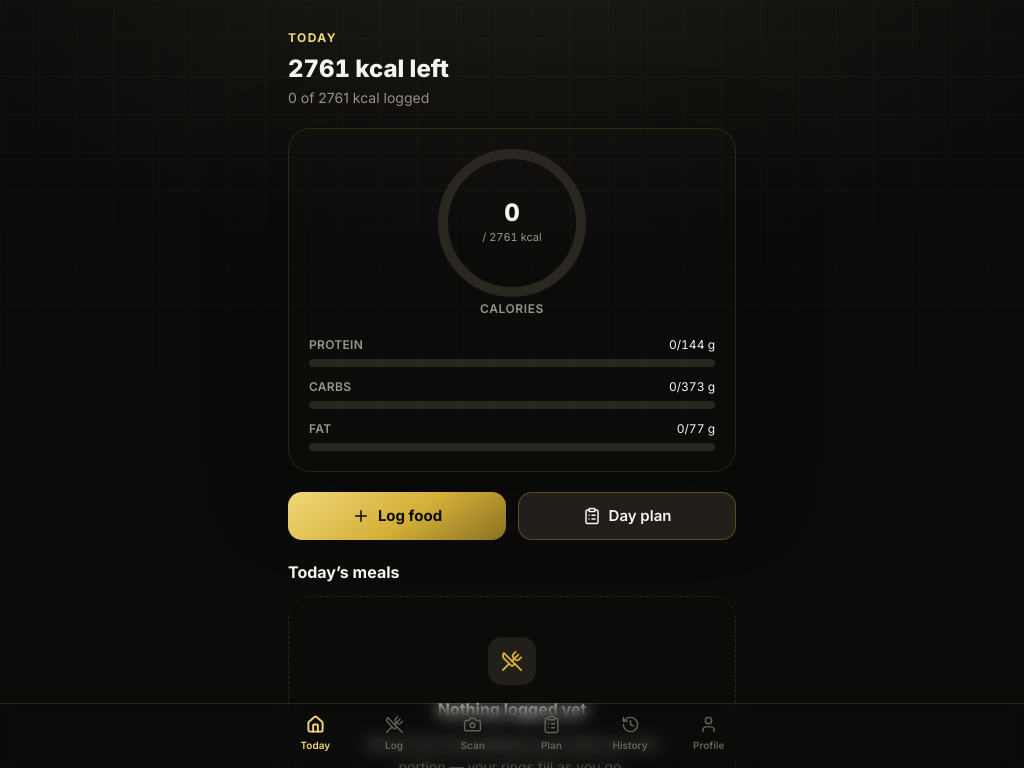
Test case: routing — once onboarded › navigates to the log screen from the nav
The image size is (1024, 768).
Click the link "Log" at (394, 733), box x1=384 y1=715 x2=404 y2=751
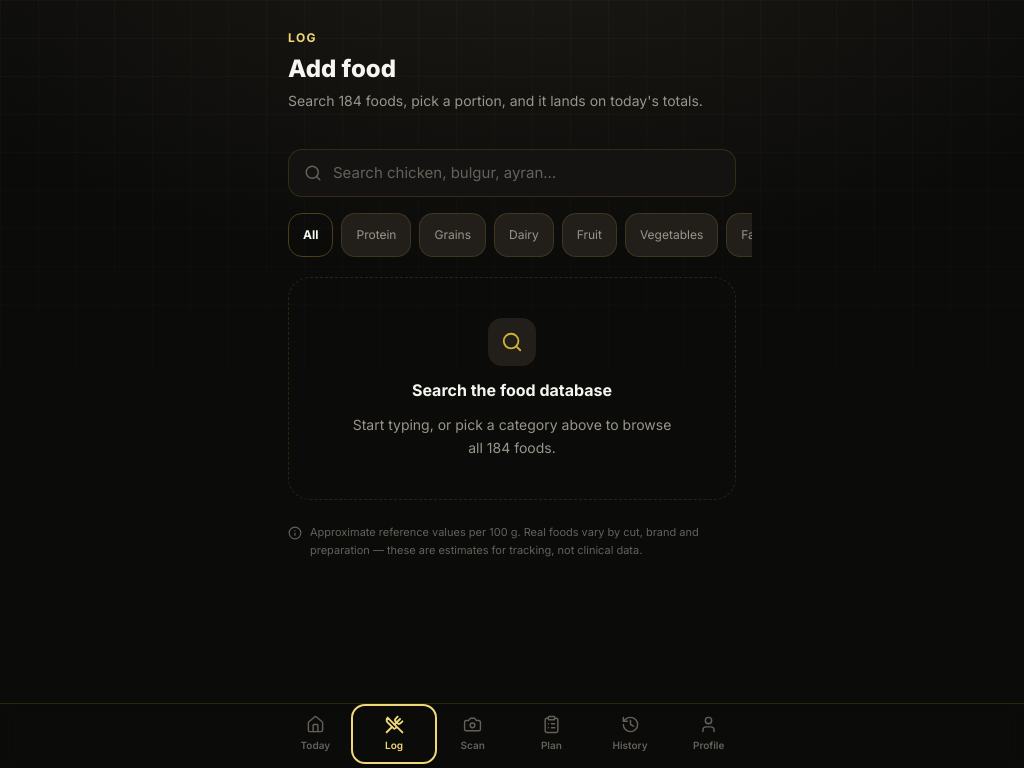
Expected: the search field named "search foods" is shown, x1=288 y1=149 x2=736 y2=197
